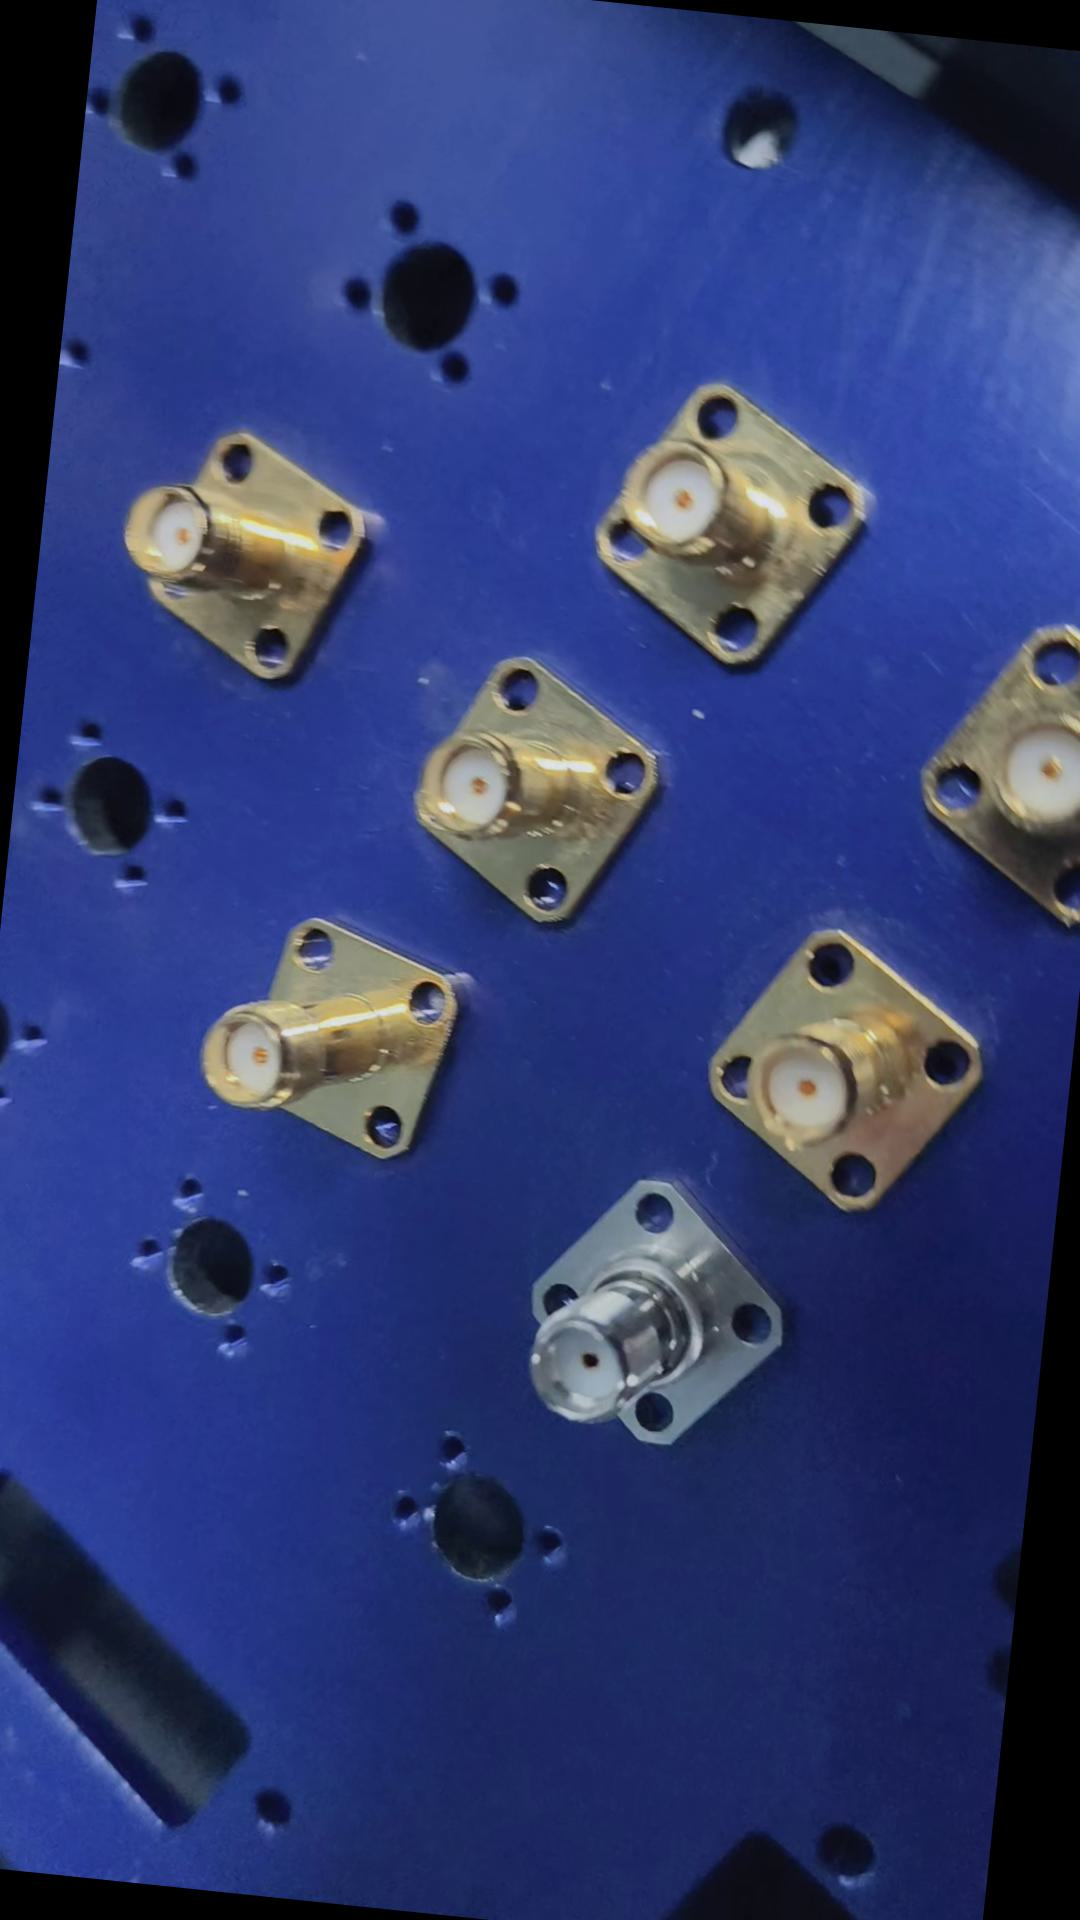SMA: (684, 901, 992, 1225), (502, 1150, 795, 1470), (582, 368, 869, 680), (392, 640, 658, 939), (109, 419, 381, 702), (183, 907, 467, 1174)
